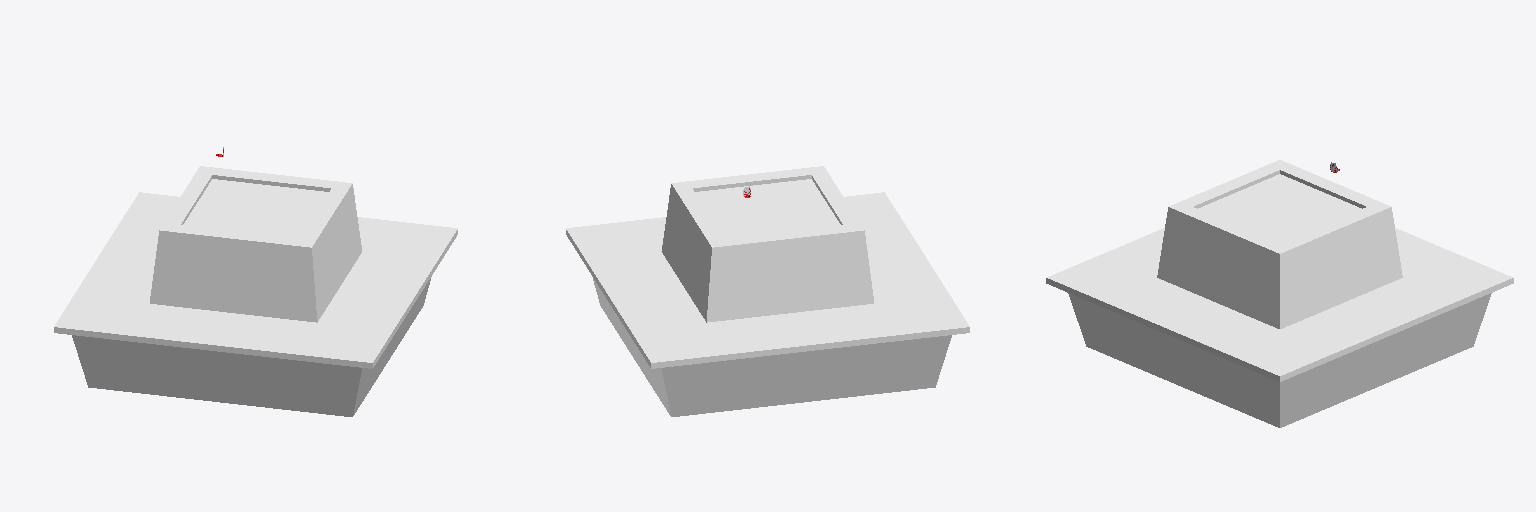
The model's file is BenchWithFlowers.obj.
The picture shows the model from 3 angles: view 1: azimuth 30°, elevation 25°; view 2: azimuth 150°, elevation 25°; view 3: azimuth 270°, elevation 25°; orthographic projection.
Parts seen in each view (by area): view 1: Mesh4 Component_17_1 Model; view 2: Mesh4 Component_17_1 Model; view 3: Mesh4 Component_17_1 Model.
Part boxes in pixels (x1,y1,x2,y2): Mesh4 Component_17_1 Model: (54, 166, 457, 416); Mesh4 Component_17_1 Model: (566, 166, 969, 416); Mesh4 Component_17_1 Model: (1046, 160, 1513, 427).
Size of the model in its own units: 2730 by 1169 by 2730.